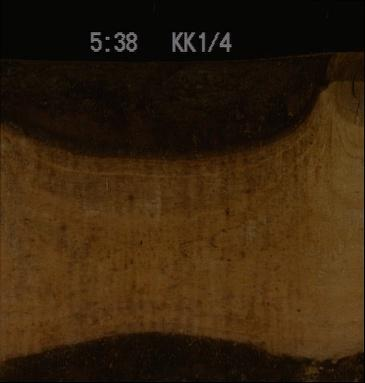sound_knot: (334, 58, 364, 124)
wave: (0, 49, 364, 159), (0, 329, 363, 381)
